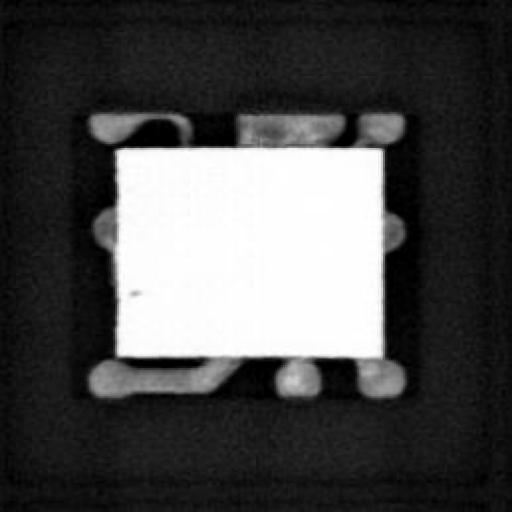DIE_INK: (123, 284, 143, 300)
